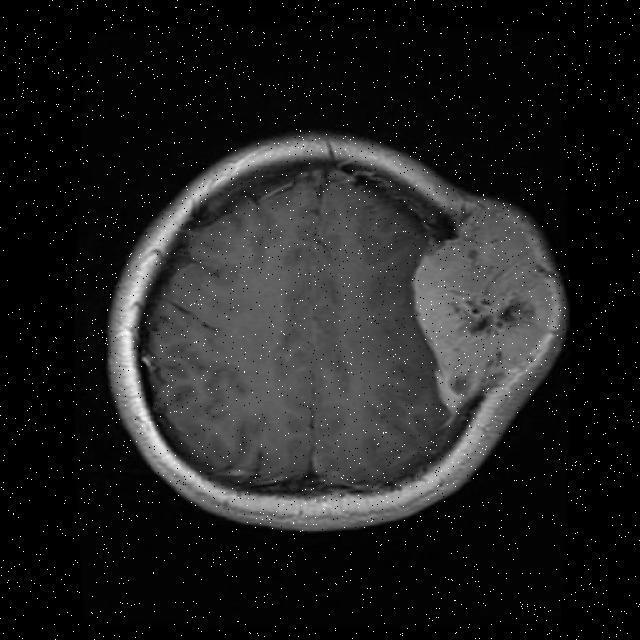Meningioma: (416, 203, 565, 418)
